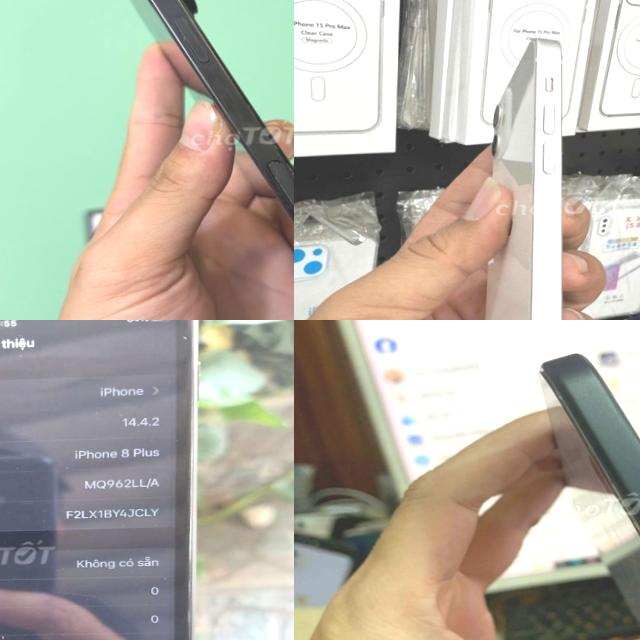gen_12_13: (475, 36, 589, 320)
gen_16: (132, 0, 294, 223), (539, 353, 640, 627)
gen_7_8: (0, 320, 211, 640)
